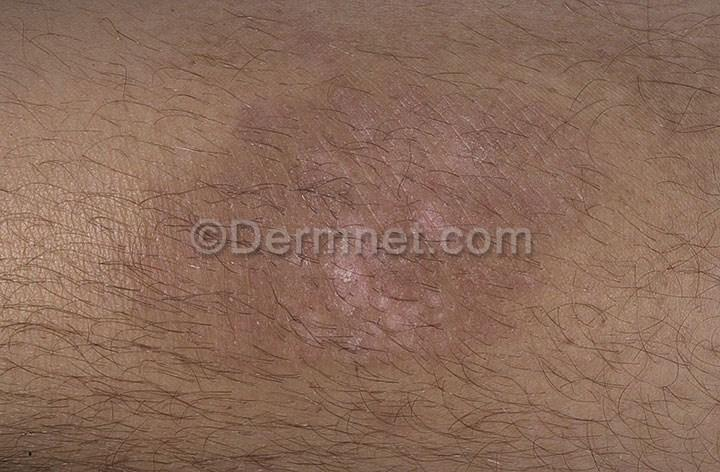Eczema: (202, 52, 498, 220), (337, 261, 580, 406), (158, 273, 337, 415), (500, 86, 618, 226), (64, 191, 200, 284)
